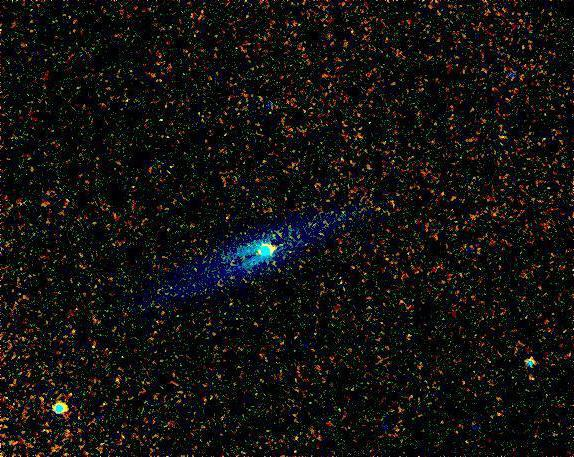star: (493, 356, 523, 386)
